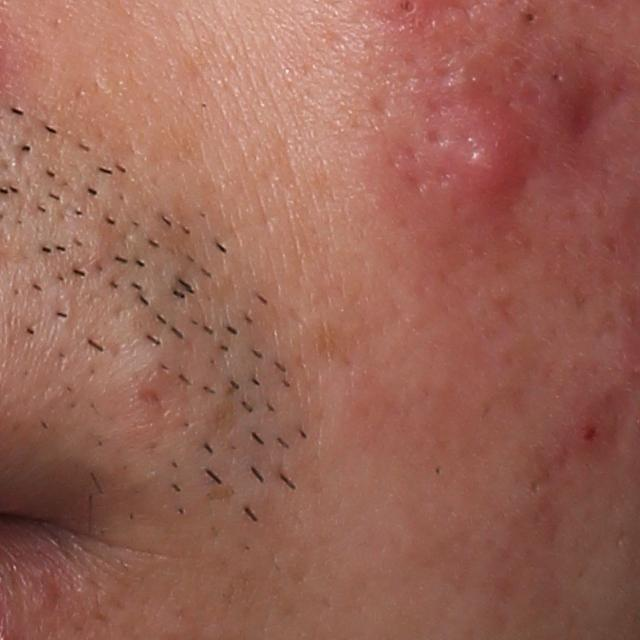comedo: (519, 9, 543, 29), (544, 68, 563, 85)
papule: (441, 102, 543, 220), (550, 81, 597, 142), (571, 412, 613, 454)
